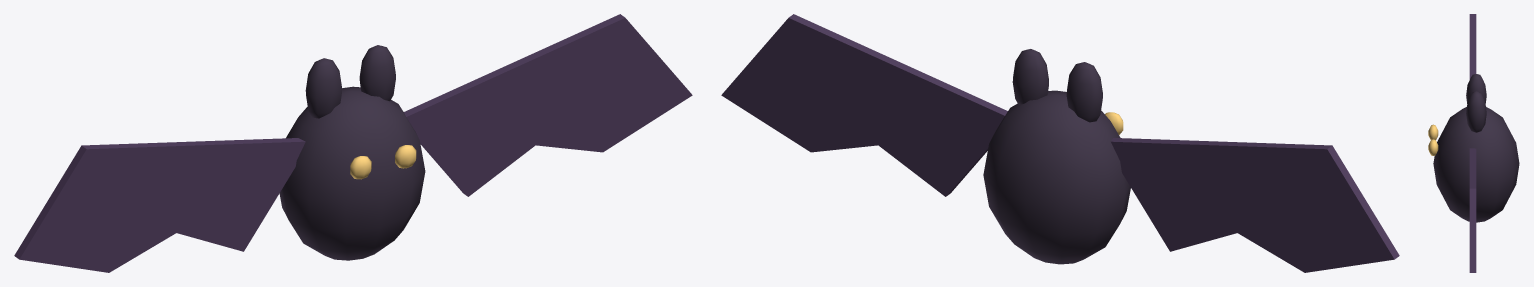
Rendered from bat.glb.
3 renders of one model, left to right at view 1: azimuth 30°, elevation 25°; view 2: azimuth 150°, elevation 25°; view 3: azimuth 270°, elevation 25°, orthographic. The views are drawn at different scales.
Parts seen in each view (by area): view 1: LH_bat; view 2: LH_bat; view 3: LH_bat.
Boxes of the visible parts, left/top/right/bottom form: LH_bat: left=14, top=14, right=692, bottom=272; LH_bat: left=721, top=14, right=1399, bottom=272; LH_bat: left=1428, top=14, right=1519, bottom=272.
Size of the model in its own units: 0.3 by 0.087 by 0.0529.
